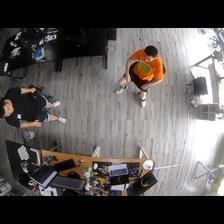normal: (1, 83, 67, 134), (115, 43, 165, 106)
